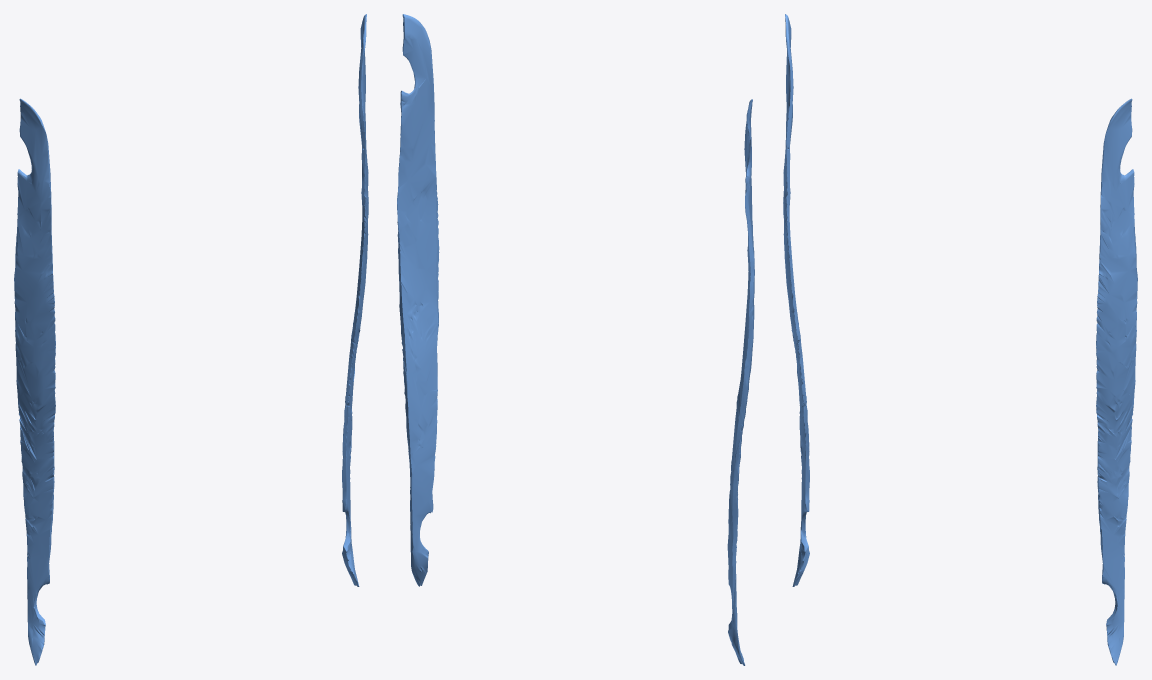
Rendered from supplement-knee-connective.glb.
3 views of the same model, side by side, from view 1: azimuth 30°, elevation 25°; view 2: azimuth 150°, elevation 25°; view 3: azimuth 330°, elevation 25° (orthographic).
Visible parts, largest first — view 1: supplemental:interosseous-membrane-of-leg:isa:FJ1392, supplemental:interosseous-membrane-of-leg:isa:FJ1392M; view 2: supplemental:interosseous-membrane-of-leg:isa:FJ1392M, supplemental:interosseous-membrane-of-leg:isa:FJ1392; view 3: supplemental:interosseous-membrane-of-leg:isa:FJ1392M, supplemental:interosseous-membrane-of-leg:isa:FJ1392.
Boxes of the visible parts, x1,y1,x2,y2 form: supplemental:interosseous-membrane-of-leg:isa:FJ1392: [14, 98, 55, 665]; supplemental:interosseous-membrane-of-leg:isa:FJ1392M: [342, 14, 368, 586]; supplemental:interosseous-membrane-of-leg:isa:FJ1392M: [397, 14, 439, 586]; supplemental:interosseous-membrane-of-leg:isa:FJ1392: [727, 99, 754, 665]; supplemental:interosseous-membrane-of-leg:isa:FJ1392M: [1096, 98, 1137, 665]; supplemental:interosseous-membrane-of-leg:isa:FJ1392: [783, 14, 809, 586].
Size of the model in its own units: 0.2074 by 0.3185 by 0.024.
